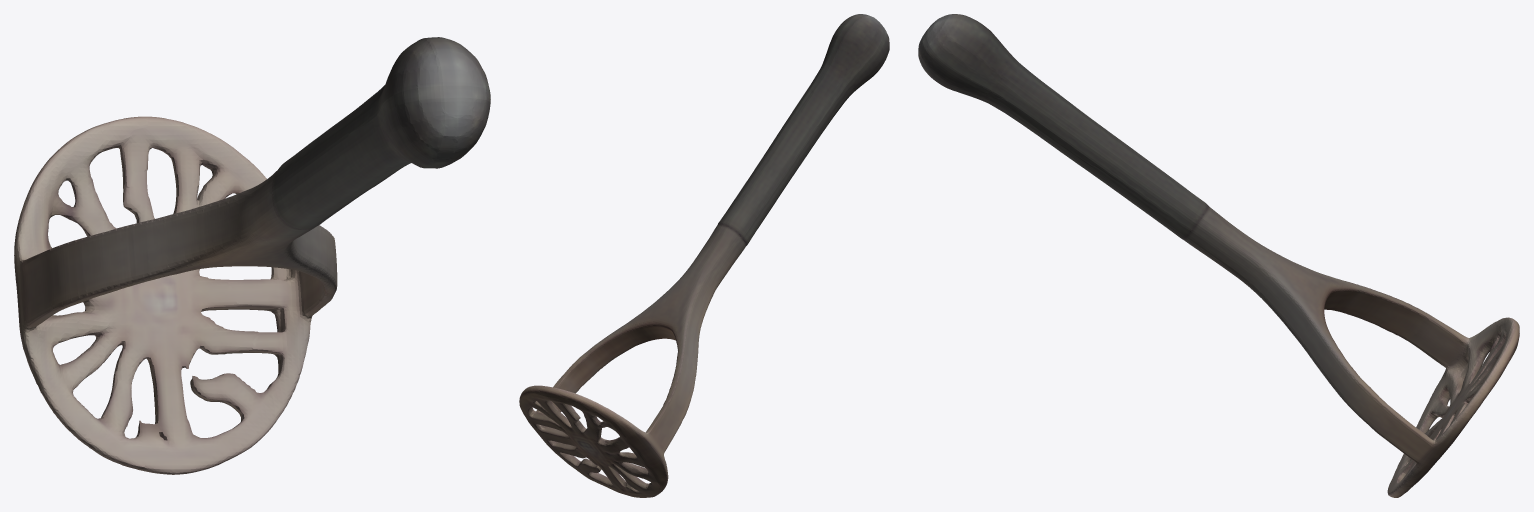
The model's file is frame_0079_source_000079_object.glb.
The picture shows the model from 3 angles, left to right: view 1: azimuth 30°, elevation 25°; view 2: azimuth 150°, elevation 25°; view 3: azimuth 270°, elevation 25°; orthographic projection. The views are drawn at different scales.
Visible parts, largest first — view 1: world; view 2: world; view 3: world.
Part boxes in pixels (x1,y1,x2,y2): world: [14, 37, 490, 474]; world: [519, 14, 889, 497]; world: [918, 14, 1519, 497].
Bounding box in the file's own units: 0.0829 × 0.185 × 0.2302.
